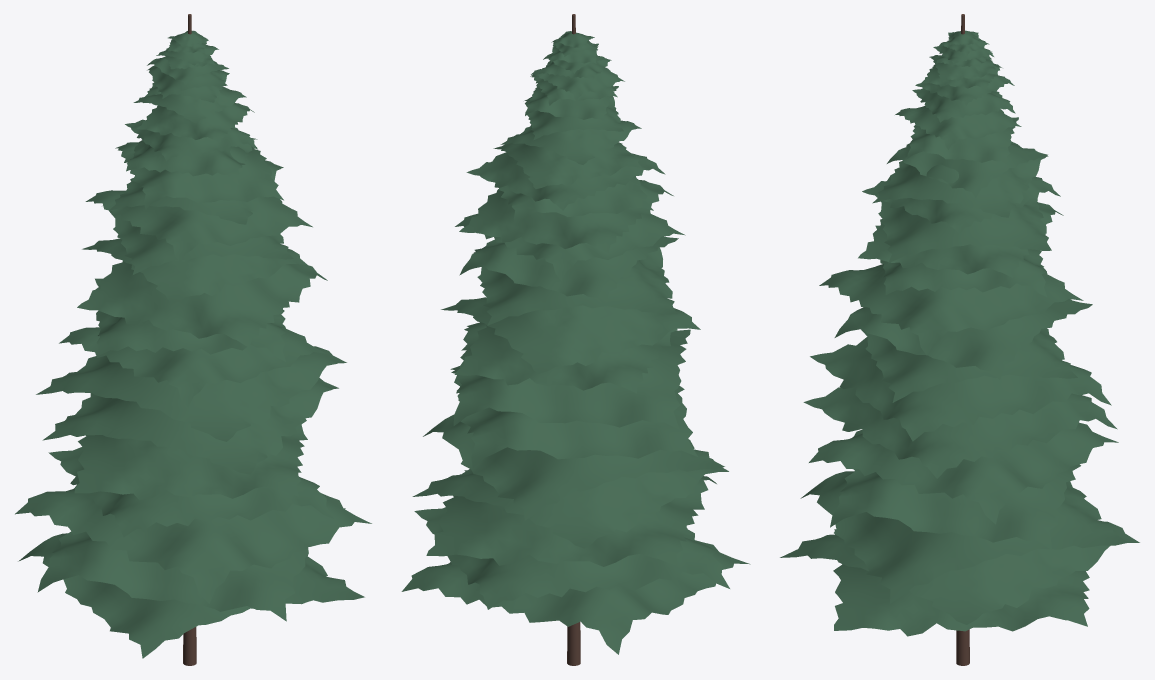
The model's file is Sapin2.fbx.
3 views of the same model, side by side, from view 1: azimuth 30°, elevation 25°; view 2: azimuth 150°, elevation 25°; view 3: azimuth 270°, elevation 25° (orthographic).
Parts seen in each view (by area): view 1: Sapin_02; view 2: Sapin_02; view 3: Sapin_02.
Part boxes in pixels (left/top/right/bottom): Sapin_02: left=15, top=14, right=371, bottom=665; Sapin_02: left=401, top=14, right=750, bottom=665; Sapin_02: left=780, top=14, right=1139, bottom=665.
Size of the model in its own units: 34.55 by 68.56 by 34.62.
